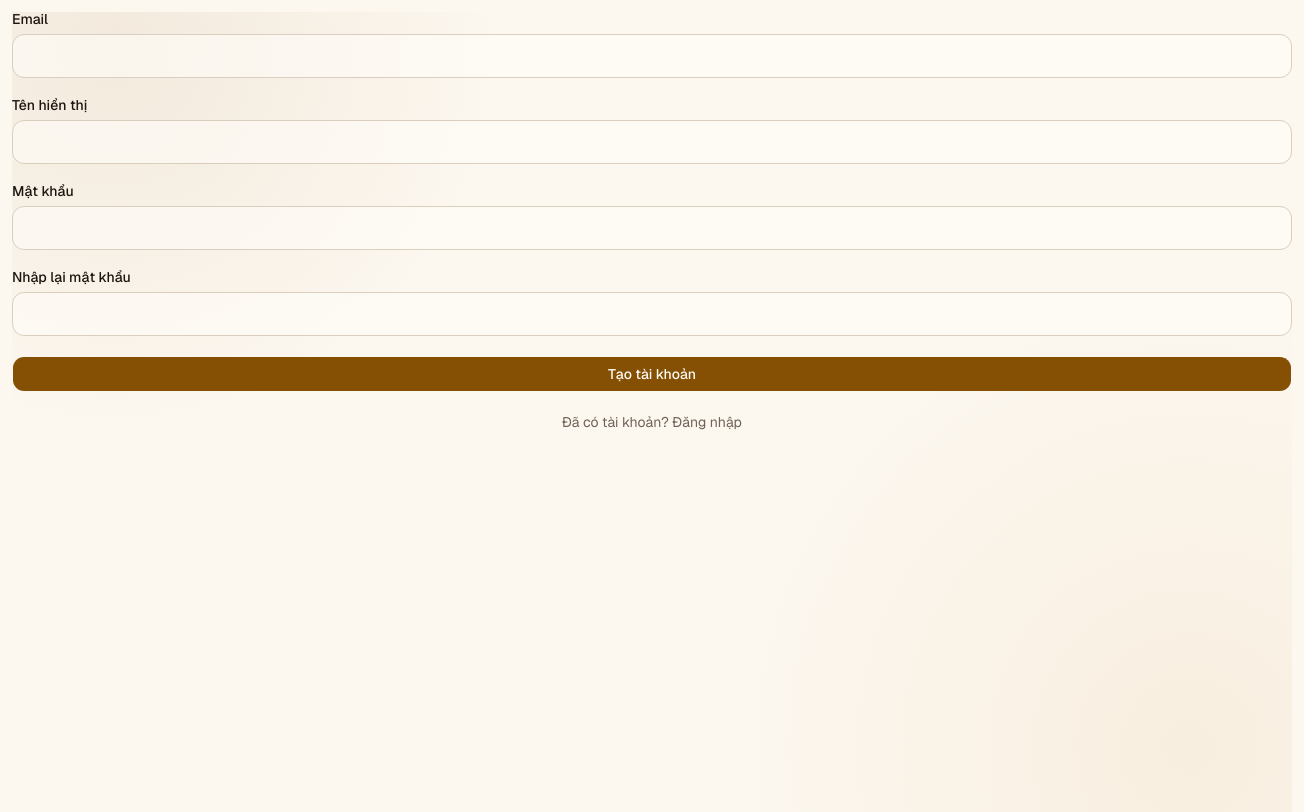
Test: RegisterForm › shows field-level errors for every invalid field
The width and height of the screenshot is (1304, 812).
Click the button "Tạo tài khoản": [652, 374] box [12,356,1292,392]
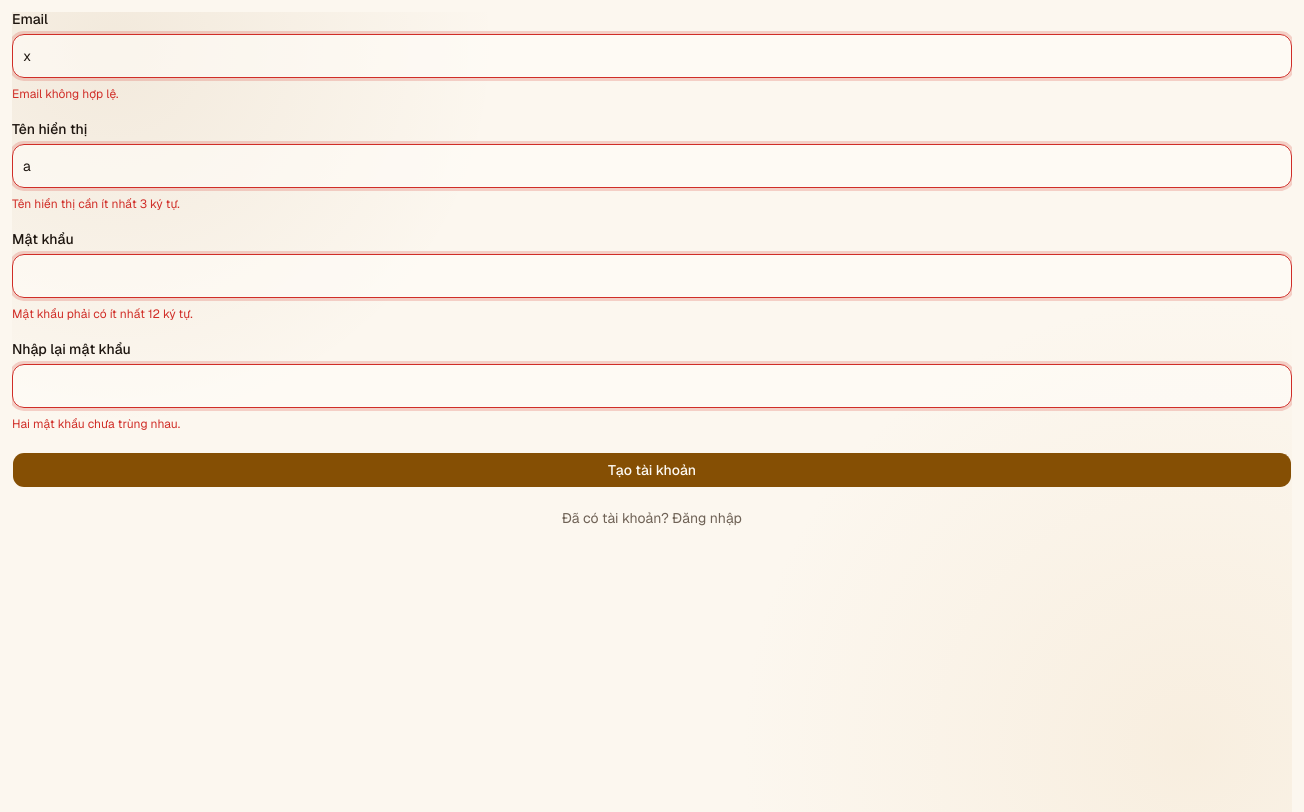
Now the text "Email không hợp lệ." is shown, box [12,86,118,102]
Now the text "Tên hiển thị cần ít nhất 3 ký tự." is shown, box [12,196,180,212]
Now the text "Mật khẩu phải có ít nhất 12 ký tự." is shown, box [12,306,193,322]
